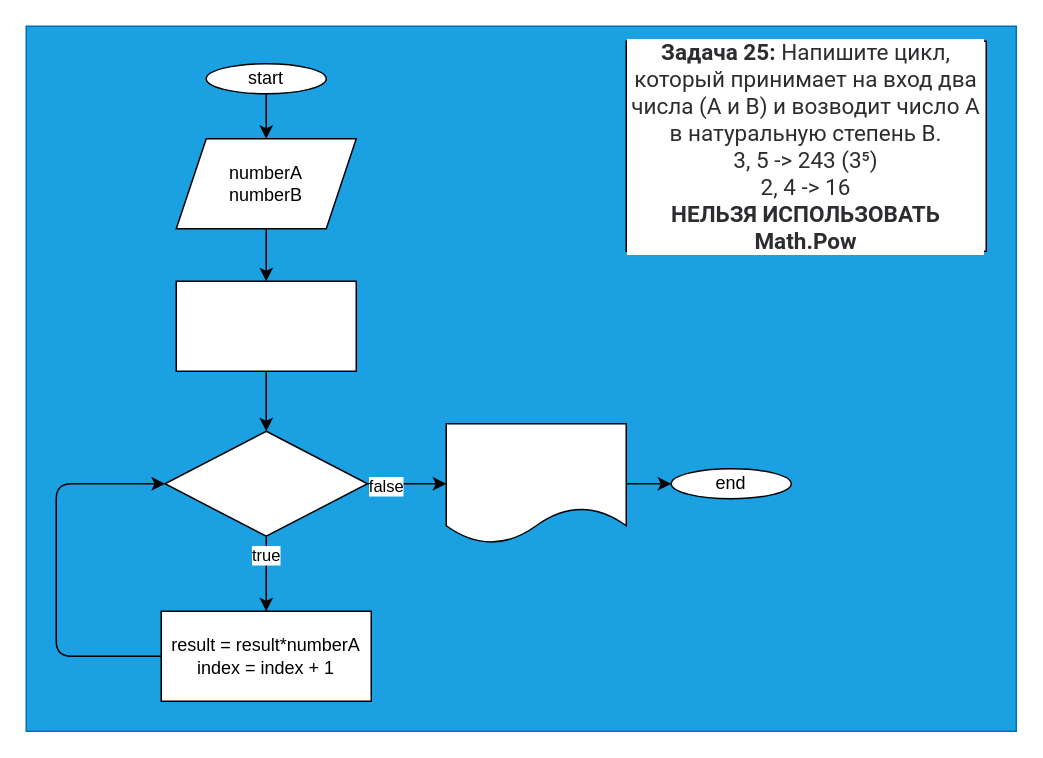
Some shapes in this 1043 by 758 pixel diagram are drawn without their labels. Here are the shapes that lost their labels. From the top down, the centre of each, then its label:
At pixel 265 325: "index = 0 result".
At pixel 266 483: "index < numberB".
At pixel 535 483: "result".
